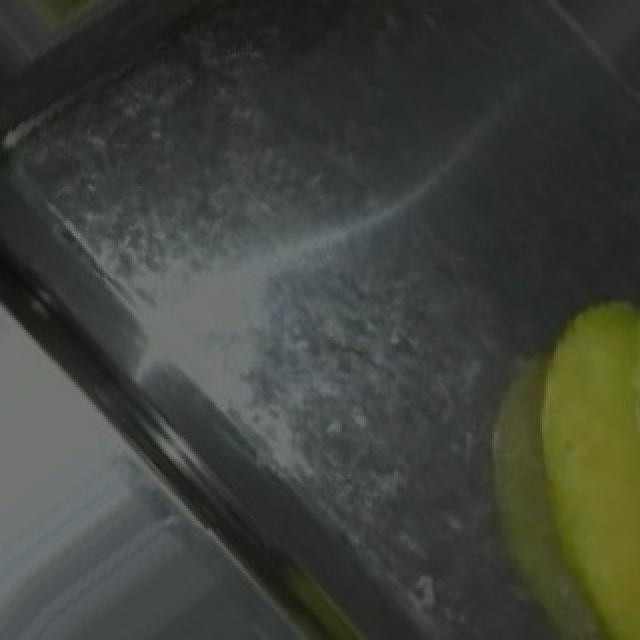fruit: (426, 268, 640, 640), (526, 270, 640, 640)
